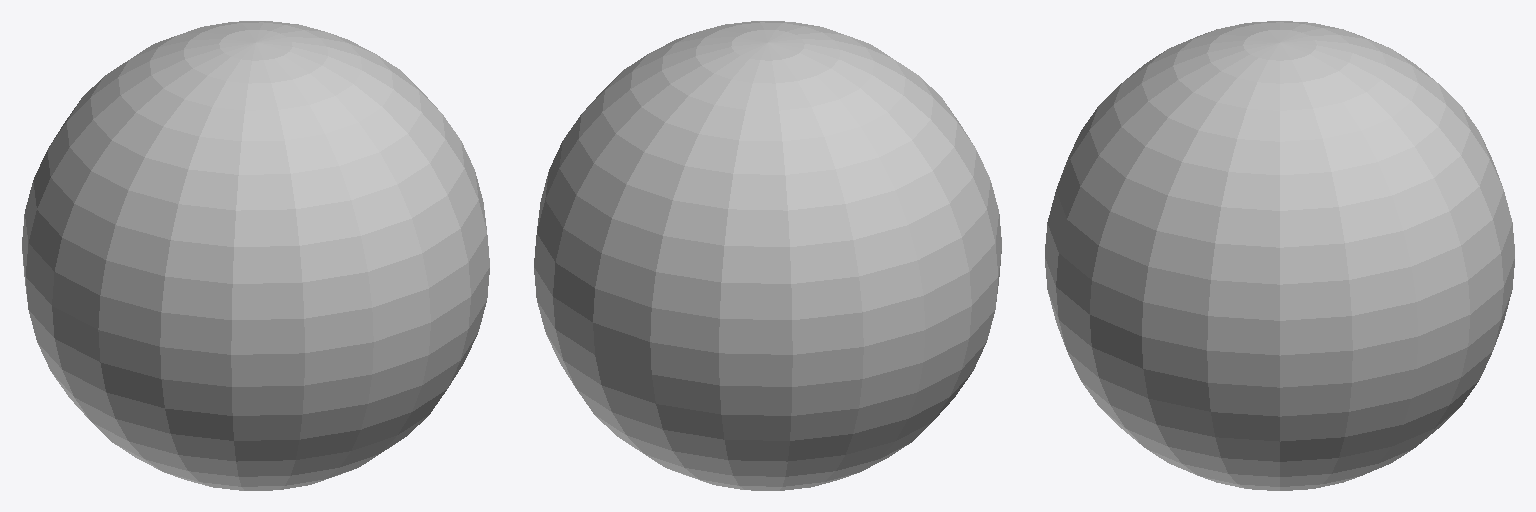
Rendered from SkySphere.obj.
The picture shows the model from 3 angles: view 1: azimuth 30°, elevation 25°; view 2: azimuth 150°, elevation 25°; view 3: azimuth 270°, elevation 25°; orthographic projection.
Visible parts, largest first — view 1: sky_sphere; view 2: sky_sphere; view 3: sky_sphere.
Part boxes in pixels (x1,y1,x2,y2): sky_sphere: (22, 21, 489, 490); sky_sphere: (534, 21, 1001, 490); sky_sphere: (1045, 21, 1514, 490).
Size of the model in its own units: 1 by 1 by 1.